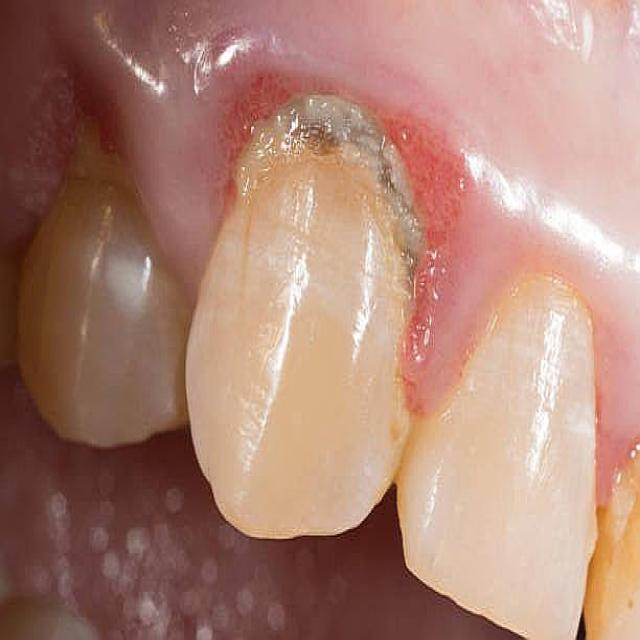calculus: (240, 58, 438, 270)
